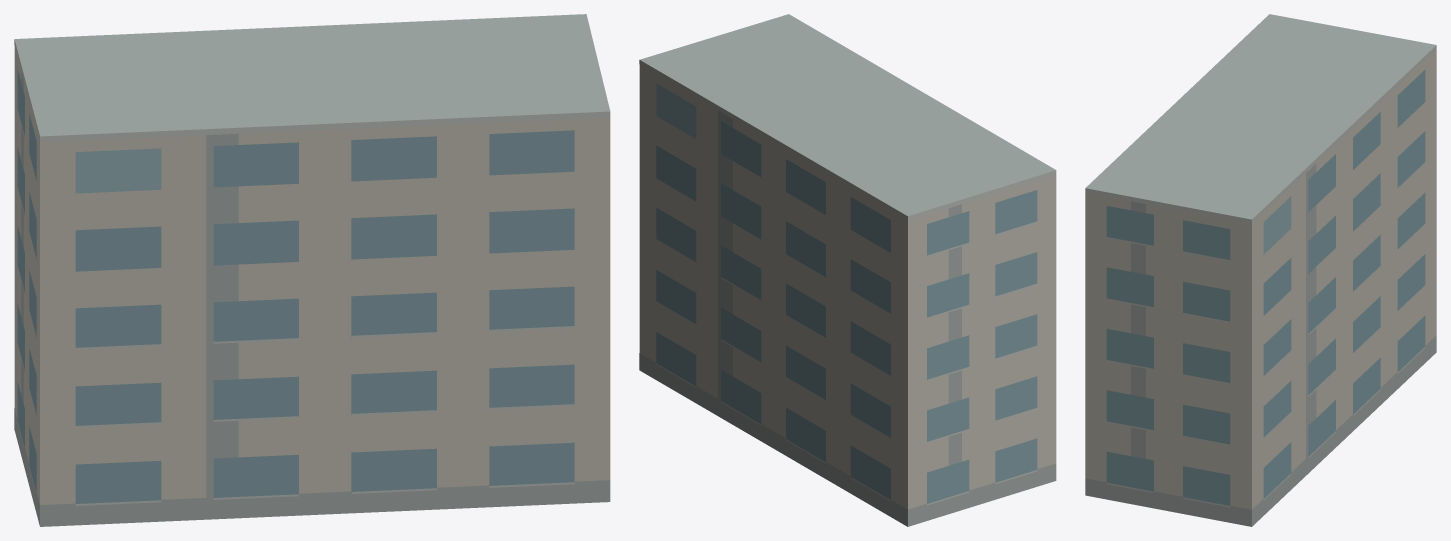
File: survey-upis-32525148.glb
The picture shows the model from 3 angles, left to right: view 1: azimuth 30°, elevation 25°; view 2: azimuth 150°, elevation 25°; view 3: azimuth 270°, elevation 25°; orthographic projection. The views are drawn at different scales.
Visible parts, largest first — view 1: survey-upis-32525148.tmp; view 2: survey-upis-32525148.tmp; view 3: survey-upis-32525148.tmp.
Boxes of the visible parts, x1,y1,x2,y2 form: survey-upis-32525148.tmp: (14, 14, 610, 526); survey-upis-32525148.tmp: (639, 14, 1056, 526); survey-upis-32525148.tmp: (1085, 14, 1436, 526).
Size of the model in its own units: 22.82 by 15.9 by 16.48.
